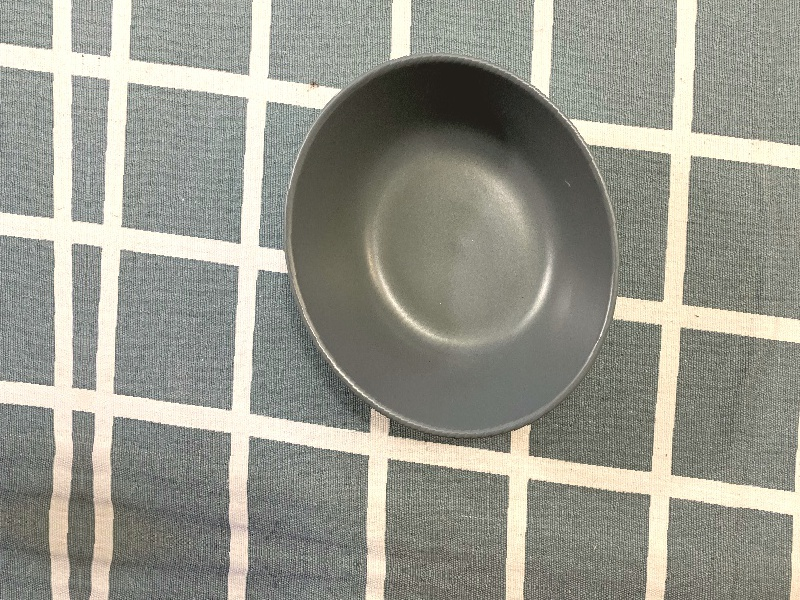bowl_big: (258, 24, 632, 474)
